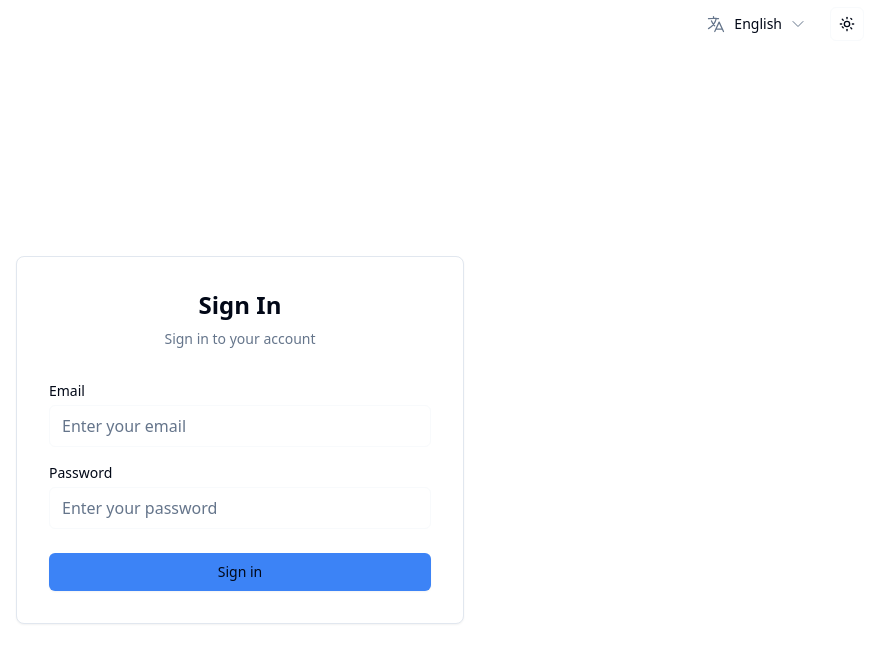
Test: LoginPage › form validation › should show validation error for short password
The image size is (872, 665).
Type "123" into the password field labelled "Password". click: {"x": 240, "y": 508}
box: [49,487,431,529]
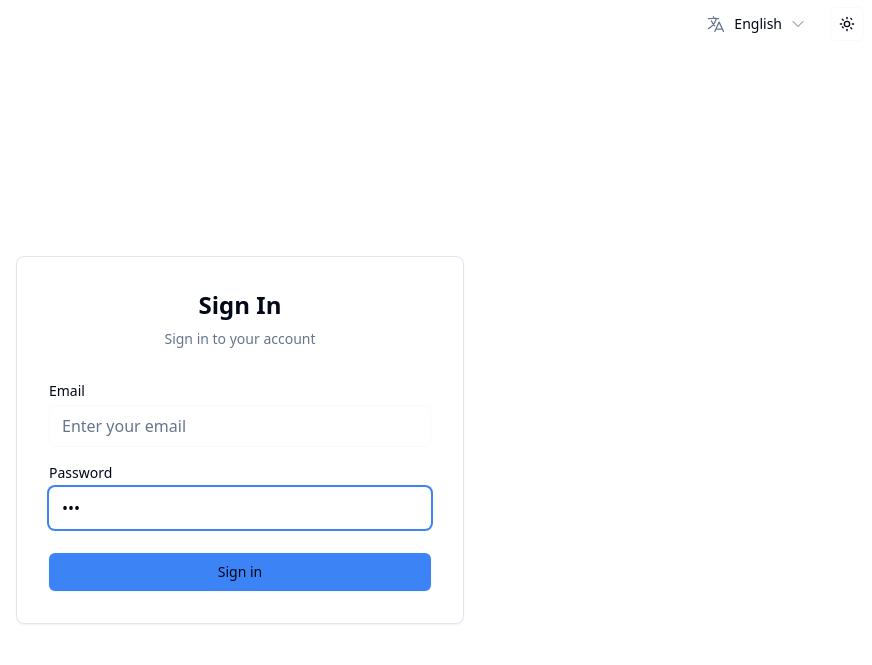
Click the button "Sign in". click: {"x": 240, "y": 572}
box: [49,553,431,591]
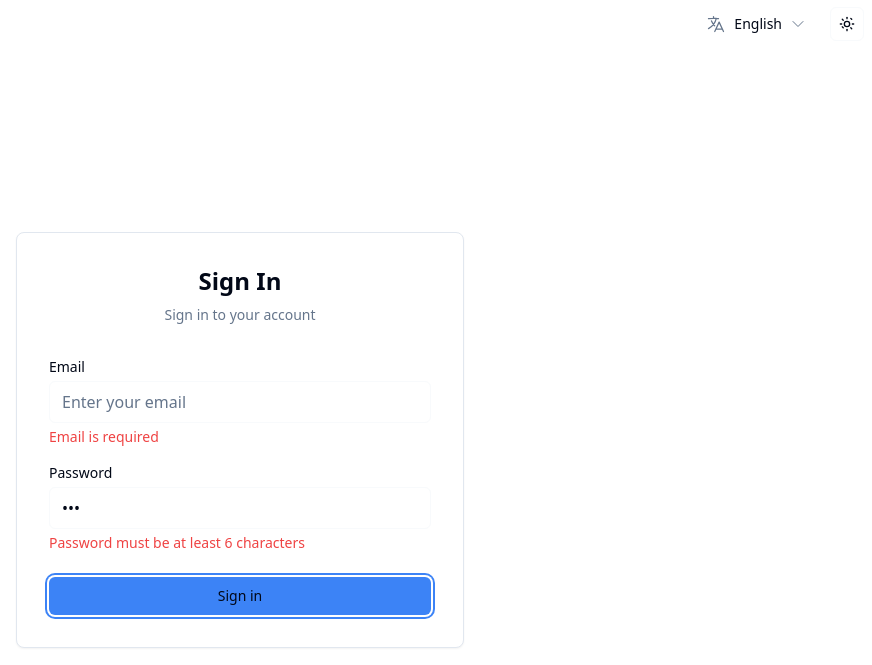
Expected: the text "Password must be at least 6 characters" is shown, [49,533,305,552]
